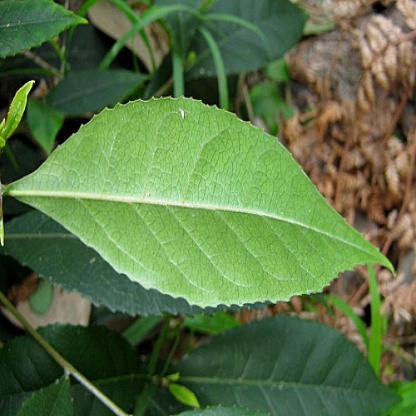Blueberry leaf: (14, 90, 406, 313)
